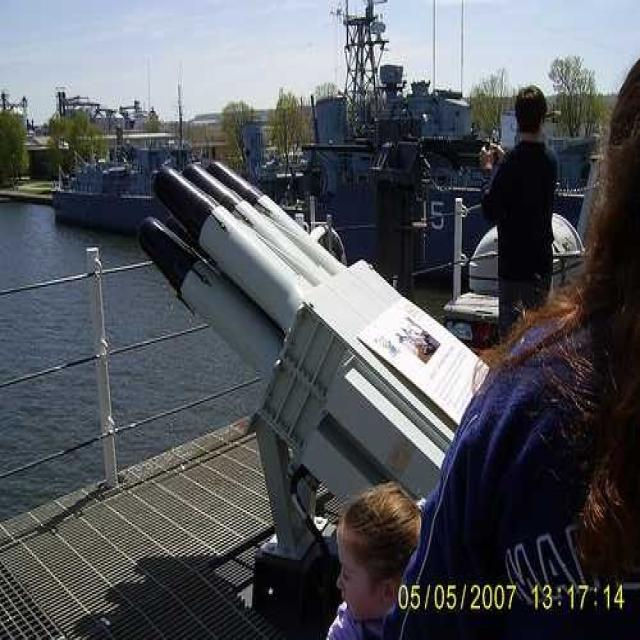missile: (151, 163, 309, 330), (136, 213, 278, 382), (184, 159, 324, 284)
